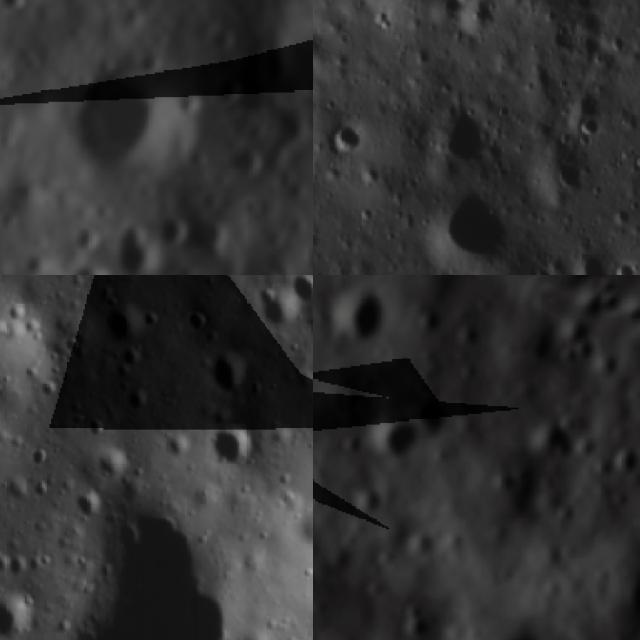crater: (33, 34, 212, 214), (68, 502, 245, 640), (151, 196, 256, 275), (86, 212, 195, 275), (428, 189, 512, 268), (318, 275, 398, 356), (425, 103, 493, 180), (0, 312, 44, 428), (217, 130, 278, 192), (202, 58, 260, 119), (208, 350, 266, 406), (206, 420, 262, 478), (373, 409, 428, 465), (259, 282, 311, 340), (99, 301, 152, 354), (0, 586, 44, 640), (90, 441, 135, 486), (601, 441, 640, 487), (549, 156, 589, 196), (325, 124, 367, 160), (68, 489, 105, 526), (0, 551, 38, 587), (183, 308, 219, 339), (3, 474, 36, 507), (289, 275, 313, 314), (292, 233, 313, 275), (164, 430, 193, 460), (126, 387, 153, 418), (82, 420, 114, 446), (21, 445, 53, 470), (64, 336, 87, 362), (606, 260, 640, 275), (243, 631, 283, 640)
